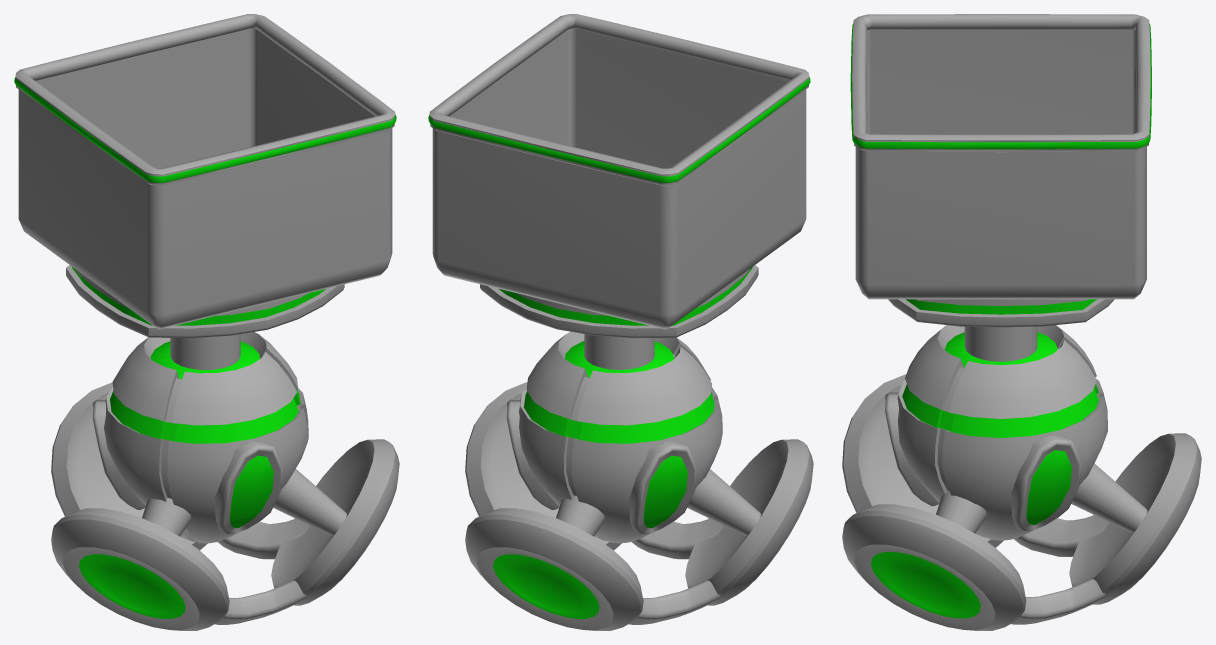
File: drone_grp.fbx
3 renders of one model, left to right at view 1: azimuth 30°, elevation 25°; view 2: azimuth 150°, elevation 25°; view 3: azimuth 270°, elevation 25°, orthographic. The views are drawn at different scales.
Parts seen in each view (by area): view 1: drone_box, drone_body; view 2: drone_box, drone_body; view 3: drone_box, drone_body.
Boxes of the visible parts, left/top/right/bottom form: drone_box: left=14, top=14, right=396, bottom=329; drone_body: left=51, top=265, right=399, bottom=630; drone_box: left=428, top=14, right=810, bottom=329; drone_body: left=465, top=265, right=813, bottom=630; drone_box: left=850, top=14, right=1151, bottom=299; drone_body: left=842, top=299, right=1201, bottom=630.
Size of the model in its own units: 40.6 by 60.45 by 37.92.
